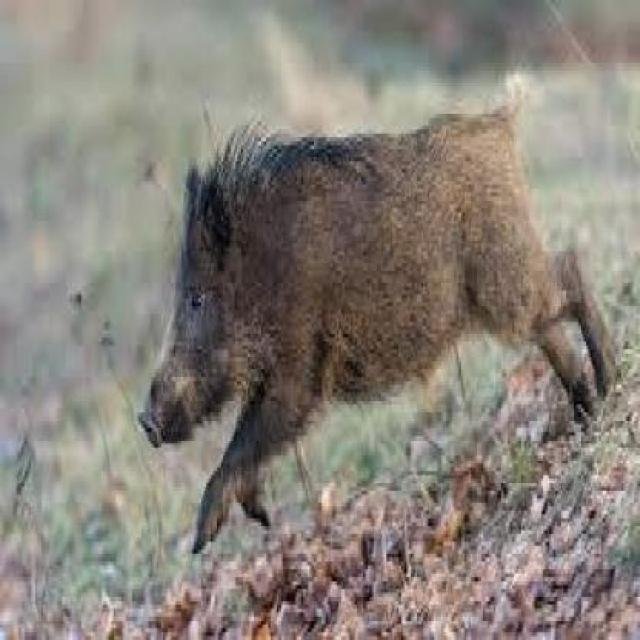wildboar: (135, 84, 619, 562)
